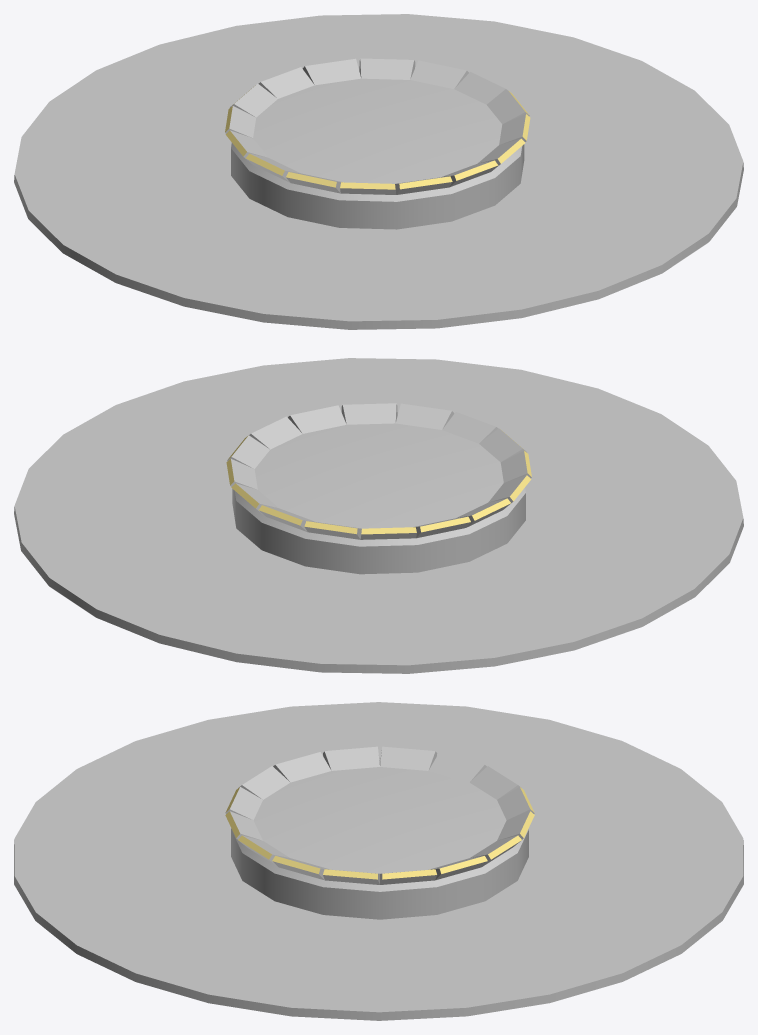
The model's file is BaseforGanesha.fbx.
3 views of the same model, one above another, from view 1: azimuth 30°, elevation 25°; view 2: azimuth 150°, elevation 25°; view 3: azimuth 270°, elevation 25° (orthographic).
Parts seen in each view (by area): view 1: polySurface1, polySurface17; view 2: polySurface1, polySurface17; view 3: polySurface1, polySurface17.
Part boxes in pixels (<box>): polySurface1: <box>14,14,743,329</box>; polySurface17: <box>225,85,530,189</box>; polySurface1: <box>14,358,743,673</box>; polySurface17: <box>226,429,531,534</box>; polySurface1: <box>14,702,743,1020</box>; polySurface17: <box>225,787,534,879</box>.
Bounding box in the file's own units: 1974 × 208 × 1960.
